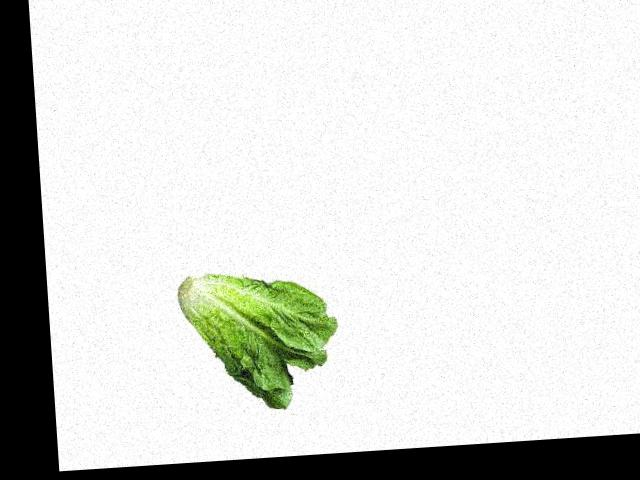lettuce: (181, 269, 336, 424)
